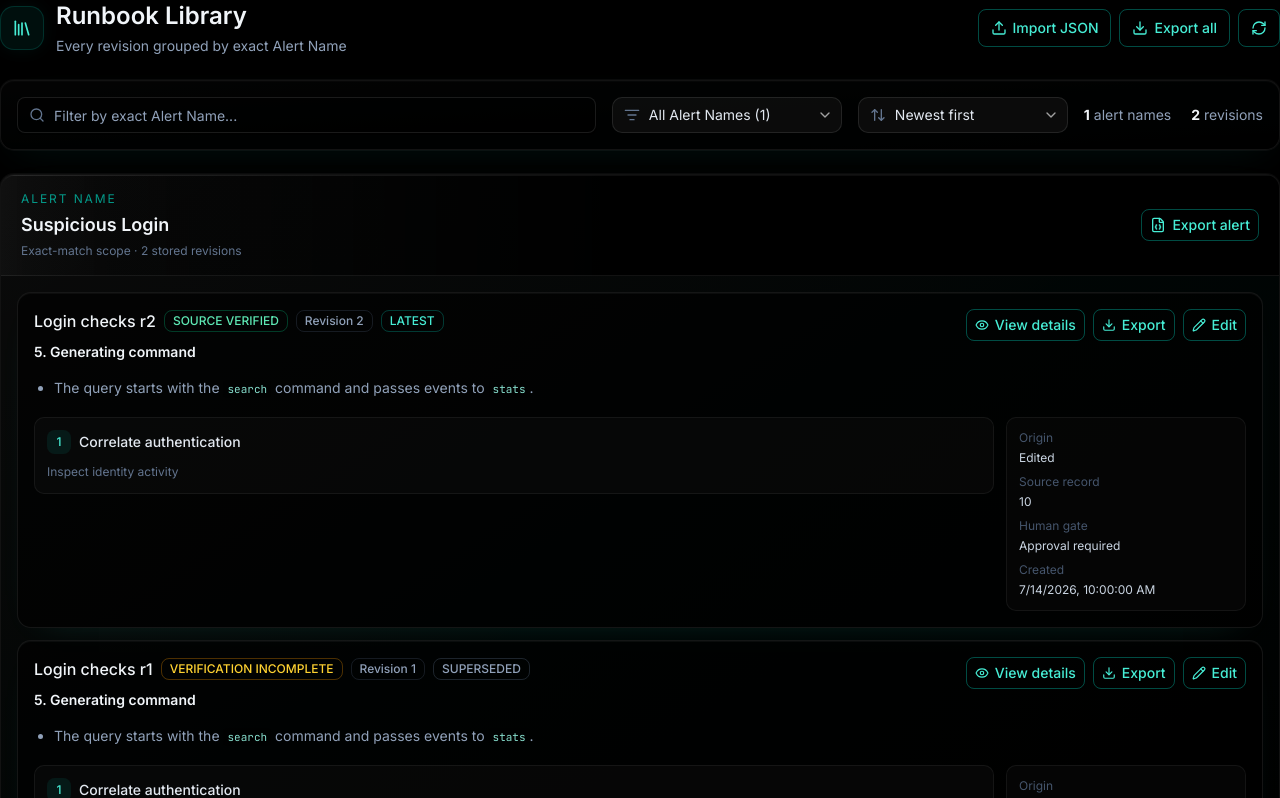
Test: RunbookLibraryContent › filters groups by Alert Name
This screenshot has width=1280, height=798.
Expected: the heading "Suspicious Login" is shown, [21, 214, 169, 235]
In the field named "Filter by Alert Name": (306, 115) [17, 97, 596, 133], type "endpoint malware"
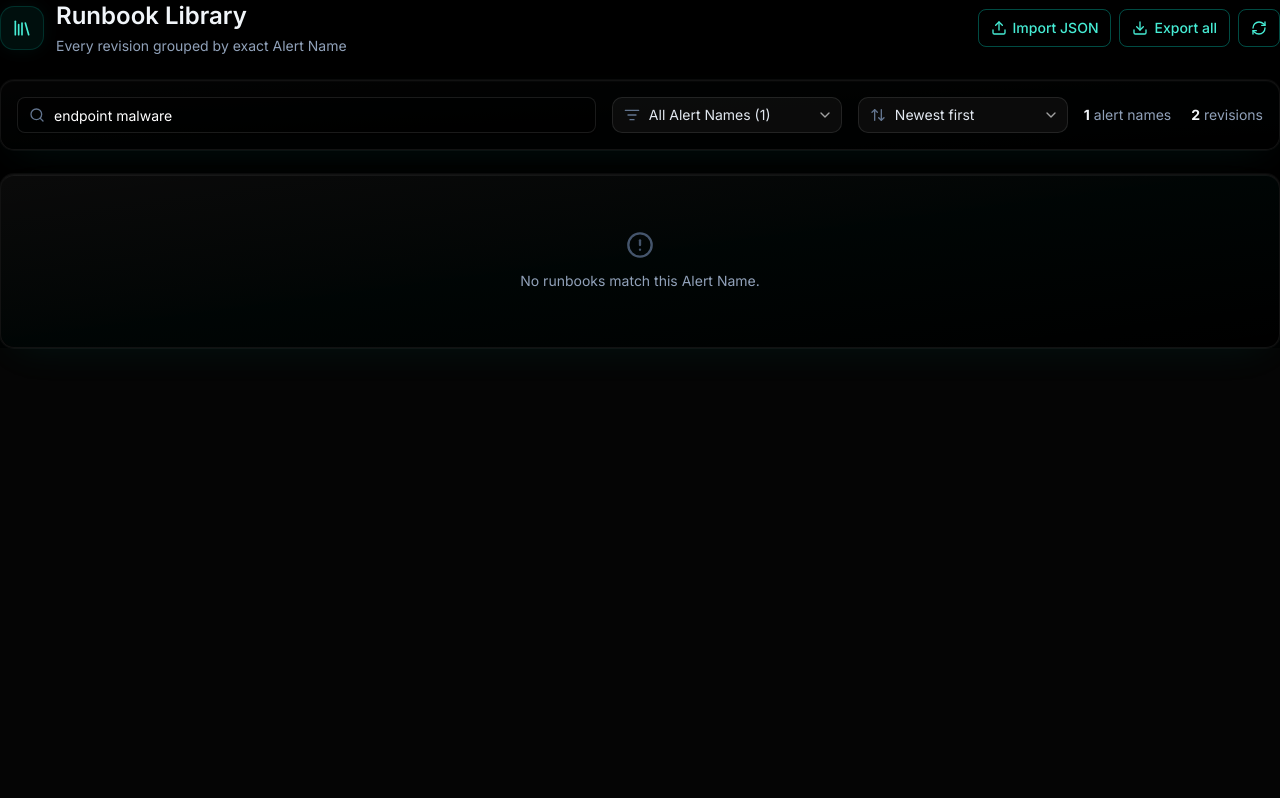
Result: the text "No runbooks match this Alert Name." is shown at [520, 271, 760, 291]
